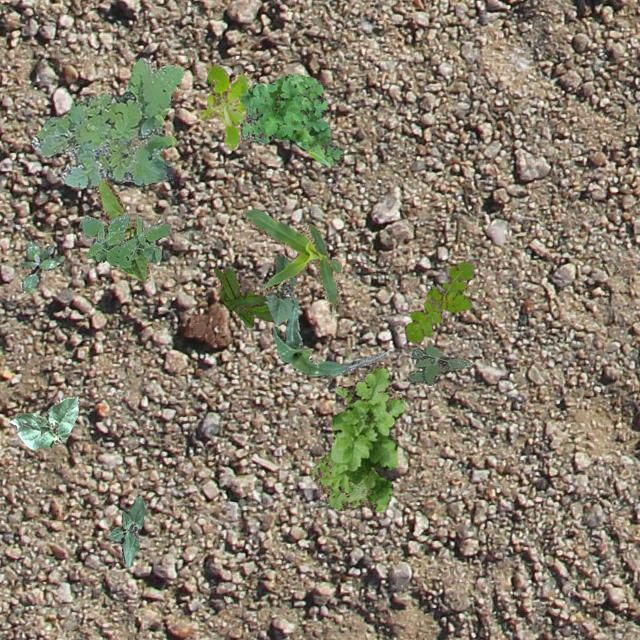crop: (240, 210, 340, 318), (270, 286, 384, 376), (92, 176, 148, 282), (8, 396, 78, 448), (108, 494, 144, 566), (264, 253, 296, 324)
weed: (31, 56, 182, 186), (312, 362, 404, 511), (238, 72, 342, 164), (403, 260, 472, 342), (78, 210, 170, 266), (198, 66, 248, 150), (213, 266, 273, 326), (406, 344, 472, 384), (18, 240, 62, 292)
